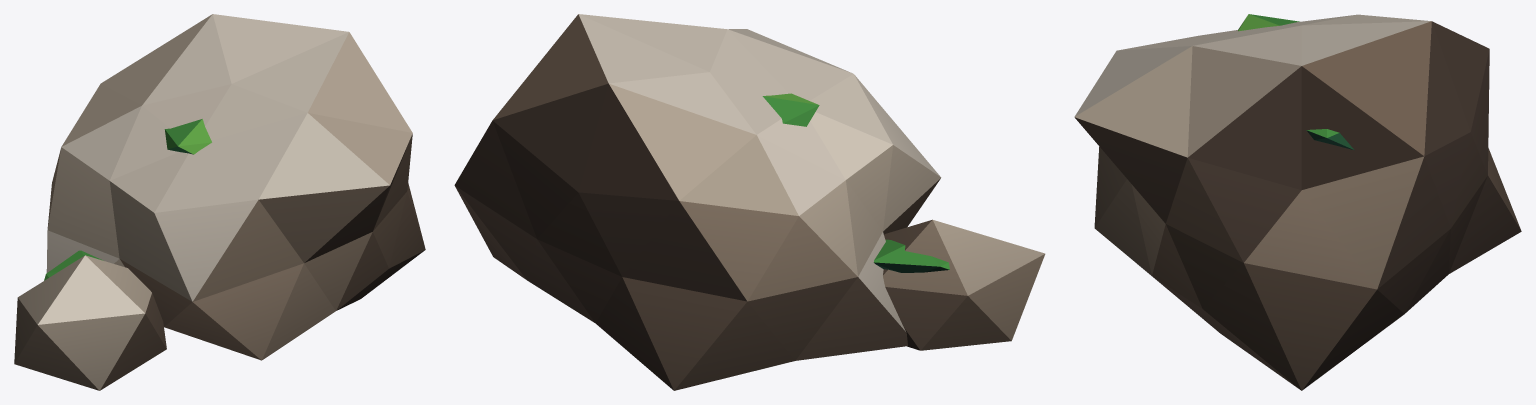
Rendered from rock_mossy.glb.
The picture shows the model from 3 angles, left to right: view 1: azimuth 30°, elevation 25°; view 2: azimuth 150°, elevation 25°; view 3: azimuth 270°, elevation 25°; orthographic projection. The views are drawn at different scales.
Parts seen in each view (by area): view 1: rock_mossy; view 2: rock_mossy; view 3: rock_mossy.
Part boxes in pixels (x1,y1,x2,y2): rock_mossy: [14, 14, 425, 390]; rock_mossy: [454, 14, 1045, 390]; rock_mossy: [1074, 14, 1521, 390].
Size of the model in its own units: 0.7706 by 0.3918 by 0.5658.
